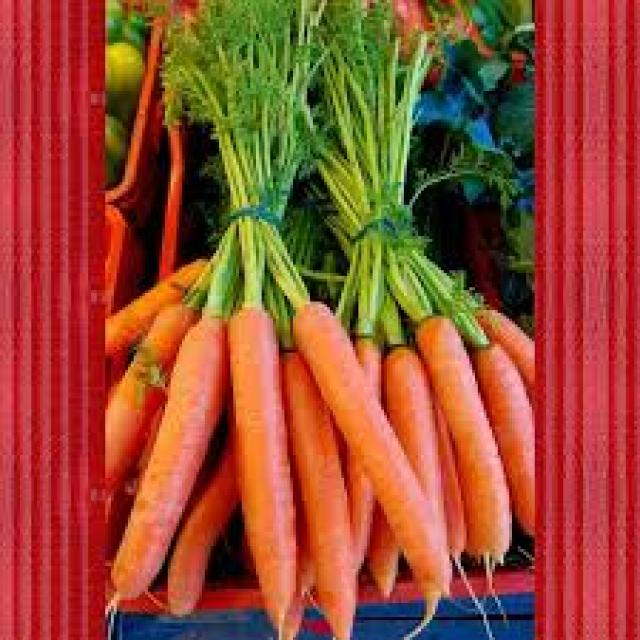Carrot: (230, 310, 296, 637)
